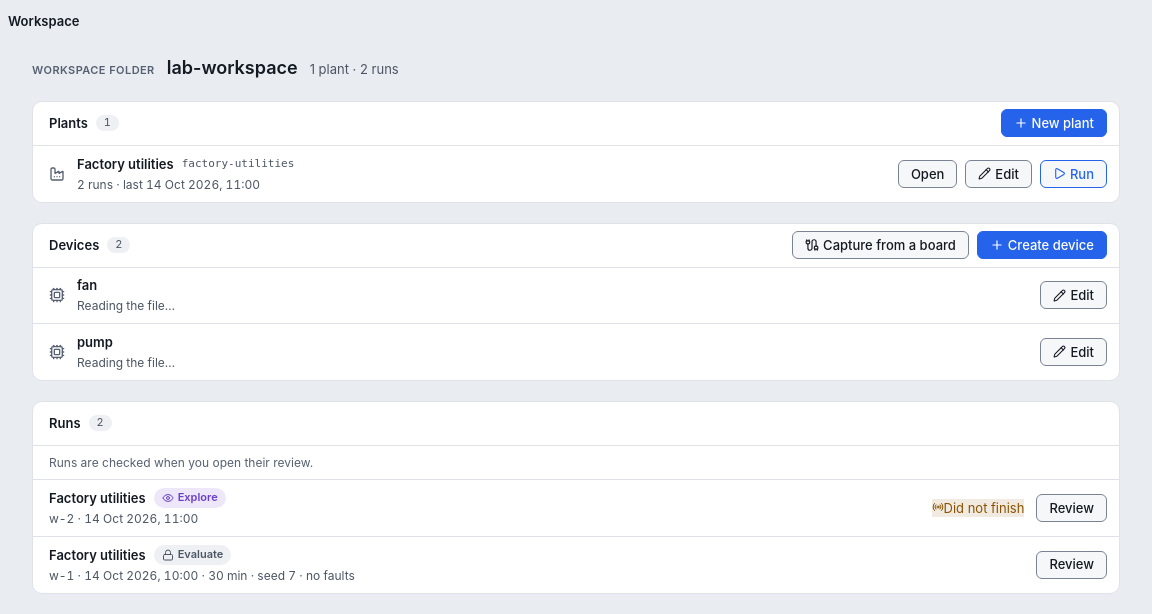
Test case: creating a device › leaves the pattern of a name to the binary, which refuses it in plain words before anything is written
This screenshot has width=1152, height=614.
Click the button "Create device". click: (1042, 245)
box: [977,231,1107,259]
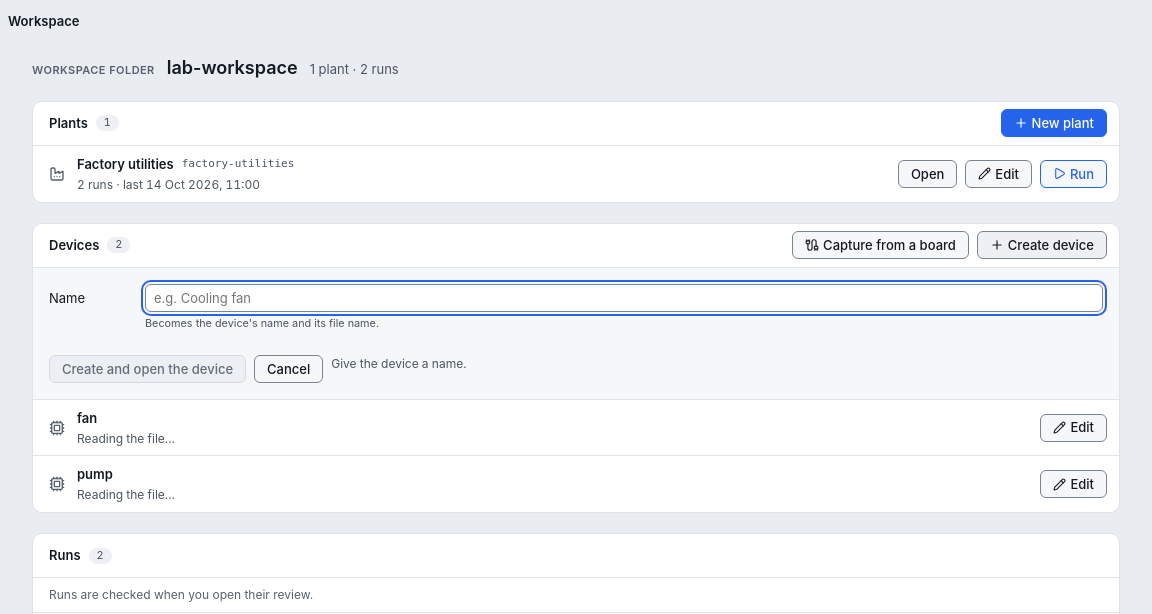
Type "bad name" into the field labelled "Name". click: (624, 298)
box: [145,284,1103,312]
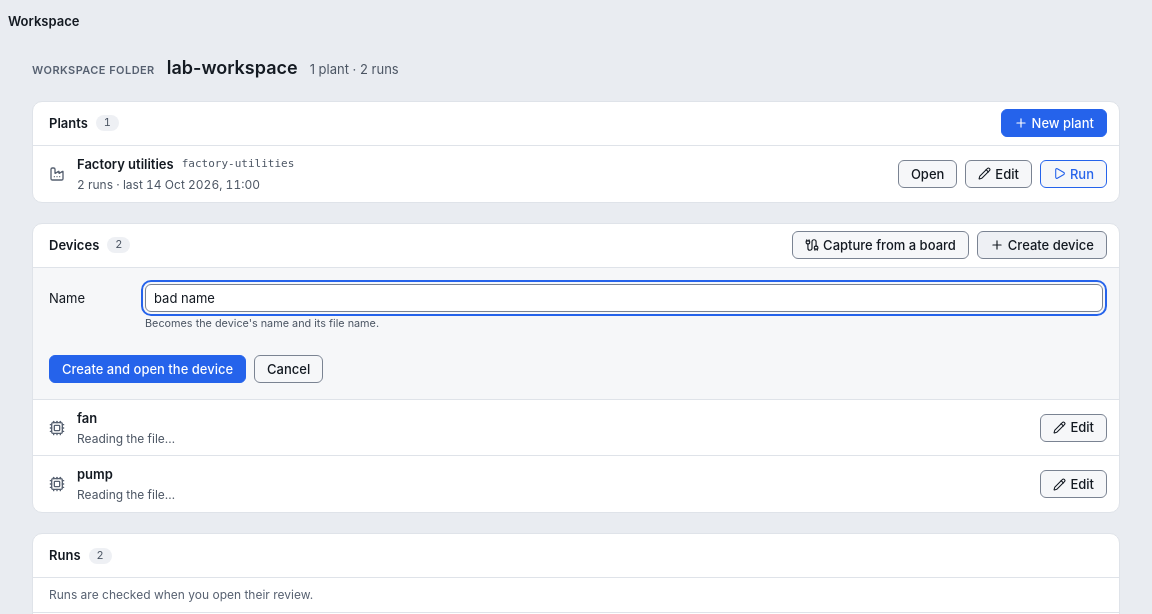
Expected: the button "Create and open the device" is enabled, [49,355,246,383]
Submit the form named "New device", box [33,268,1119,400]
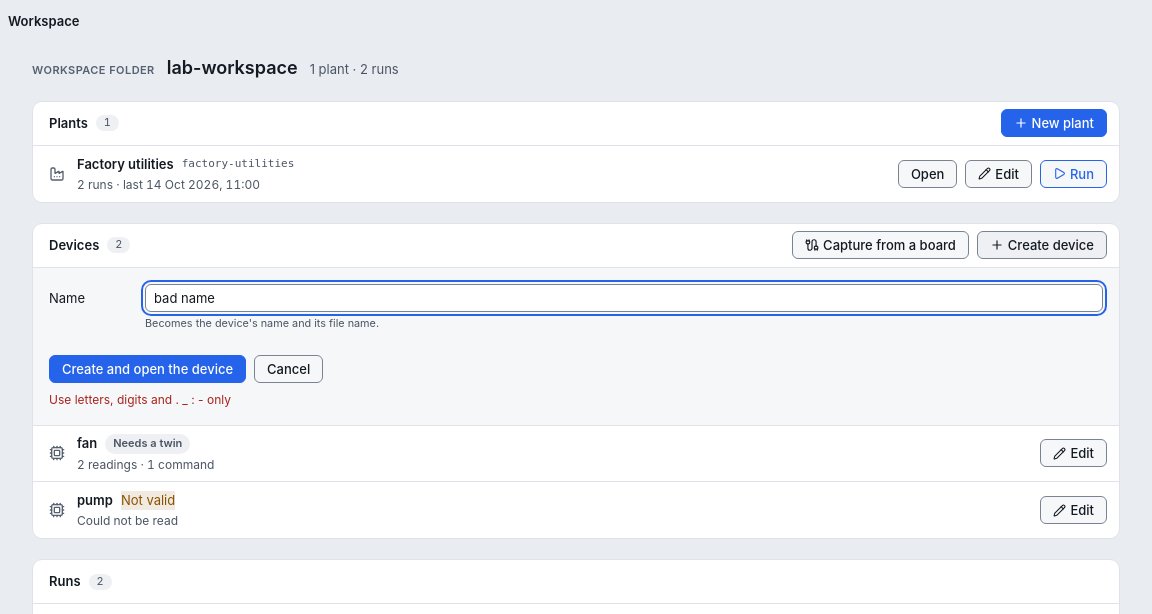
Expected: the message reads "Use letters, digits and . _ : - only", [49,392,231,407]
